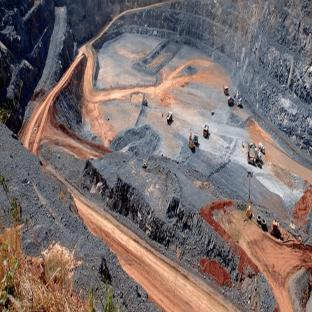ExcavationMachinery: (187, 126, 195, 151), (233, 88, 244, 105)
Vehicle: (164, 109, 175, 126), (221, 83, 231, 95), (202, 124, 210, 137)
